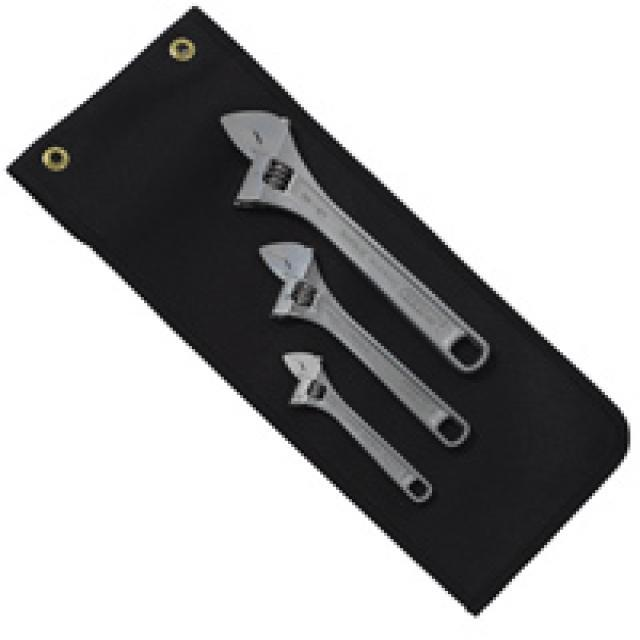wrench: (215, 105, 494, 376), (256, 238, 474, 448), (272, 345, 434, 508)
